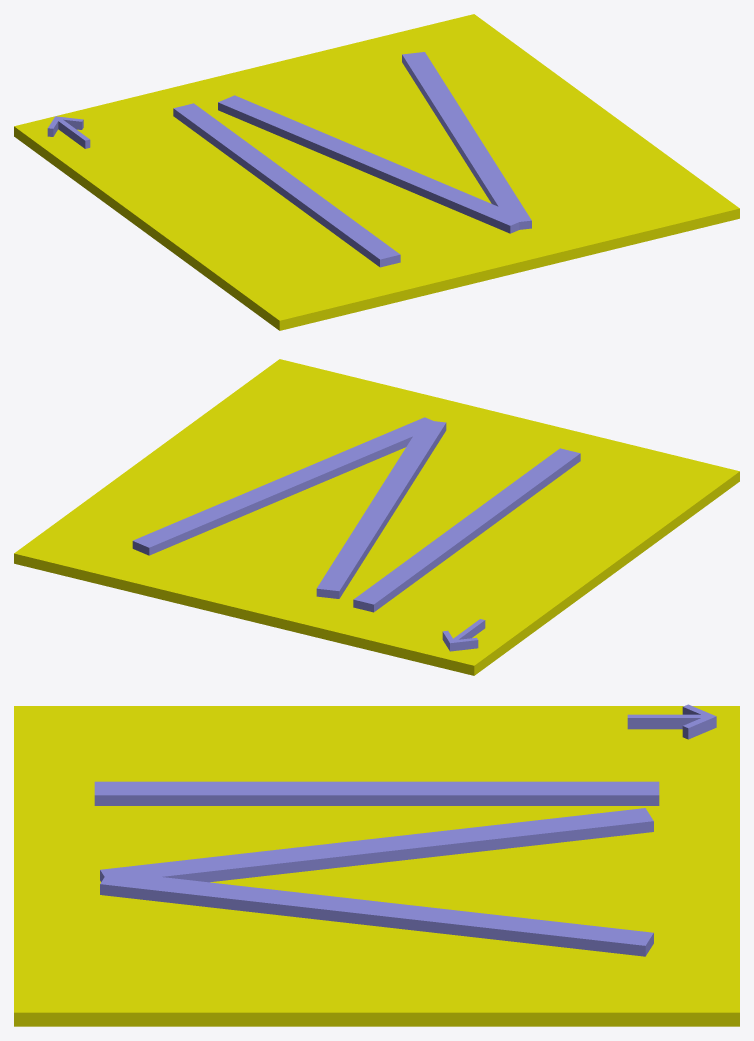
File: mark_4.fbx
The picture shows the model from 3 angles, top to bottom: view 1: azimuth 30°, elevation 25°; view 2: azimuth 150°, elevation 25°; view 3: azimuth 270°, elevation 25°; orthographic projection. The views are drawn at different scales.
Parts seen in each view (by area): view 1: pCube3, pCube9, pCube4, pCube8; view 2: pCube3, pCube8, pCube4, pCube9; view 3: pCube3, pCube4, pCube8, pCube9, pCube7.
Part boxes in pixels (x1,y1,x2,y2): pCube3: (14,14,739,330); pCube9: (218,95,526,233); pCube4: (173,103,400,267); pCube8: (402,52,531,229); pCube3: (14,359,739,675); pCube8: (132,417,440,555); pCube4: (353,448,580,612); pCube9: (316,420,446,598); pCube3: (14,706,739,1026); pCube4: (94,781,659,805); pCube8: (100,871,653,956); pCube9: (100,808,653,882); pCube7: (627,714,704,729).
Bounding box in the file's own units: 0.9 × 0.0345 × 0.9.
